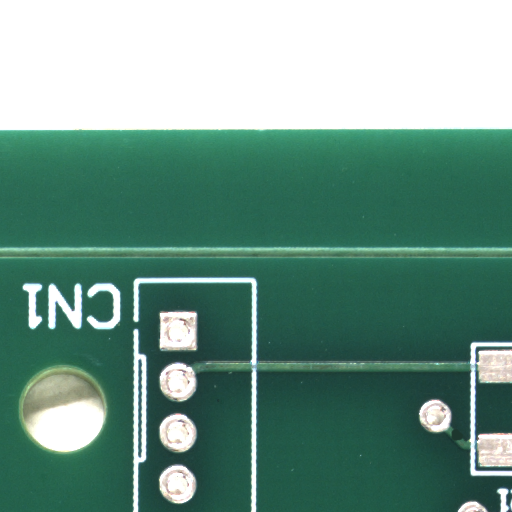Mouse_bite: (458, 435, 470, 446)
